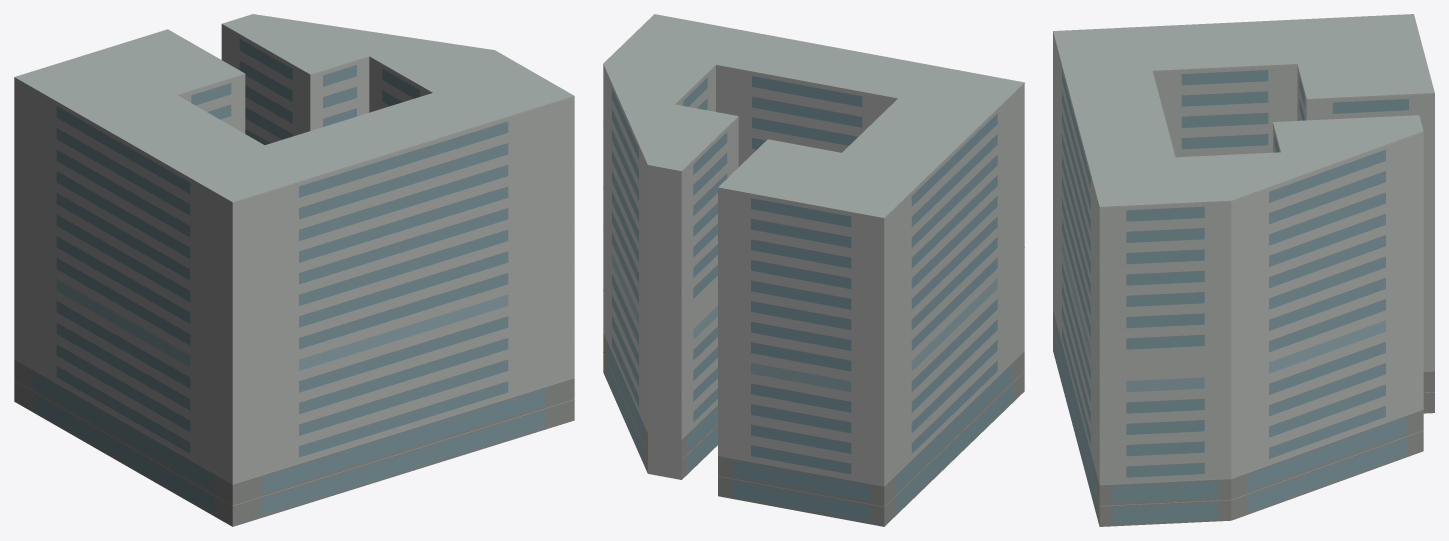
Rendered from residential-10c2b273-e2ca-46b4-88c6-8f9aaf6b5565.glb.
3 views of the same model, side by side, from view 1: azimuth 30°, elevation 25°; view 2: azimuth 150°, elevation 25°; view 3: azimuth 270°, elevation 25° (orthographic). The views are drawn at different scales.
Visible parts, largest first — view 1: residential-10c2b273-e2ca-46b4-88c6-8f9aaf6b5565.tmp; view 2: residential-10c2b273-e2ca-46b4-88c6-8f9aaf6b5565.tmp; view 3: residential-10c2b273-e2ca-46b4-88c6-8f9aaf6b5565.tmp.
Boxes of the visible parts, x1=… form: residential-10c2b273-e2ca-46b4-88c6-8f9aaf6b5565.tmp: x1=14, y1=14, x2=574, y2=526; residential-10c2b273-e2ca-46b4-88c6-8f9aaf6b5565.tmp: x1=603, y1=14, x2=1024, y2=526; residential-10c2b273-e2ca-46b4-88c6-8f9aaf6b5565.tmp: x1=1053, y1=14, x2=1434, y2=526.
Size of the model in its own units: 64.65 by 50 by 54.08.
